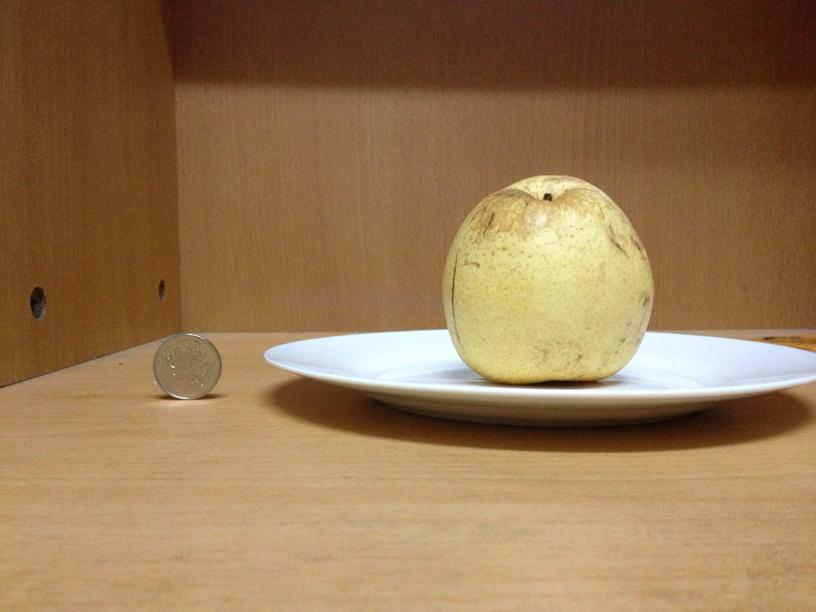coin: (151, 330, 222, 400)
pear: (442, 172, 657, 383)
